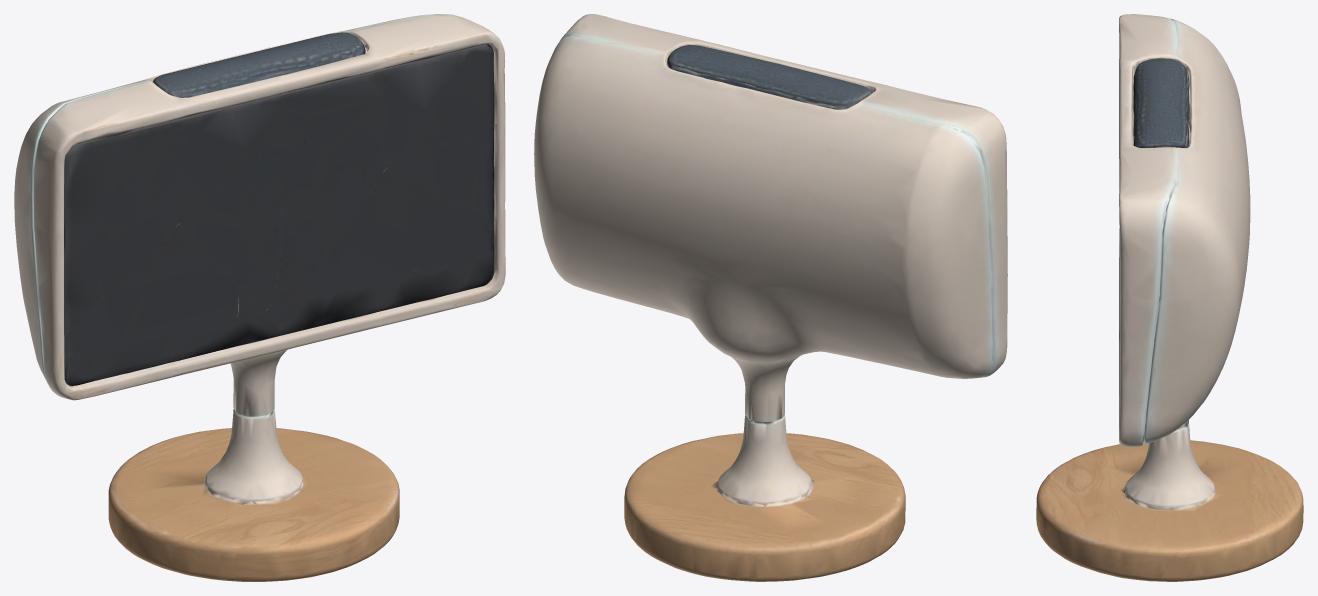
File: monitor.medium.glb
3 renders of one model, left to right at view 1: azimuth 30°, elevation 25°; view 2: azimuth 150°, elevation 25°; view 3: azimuth 270°, elevation 25°, orthographic. The views are drawn at different scales.
Parts seen in each view (by area): view 1: tripo_node_e27f7cd5-86cc-4b60-932b-93221983cf39; view 2: tripo_node_e27f7cd5-86cc-4b60-932b-93221983cf39; view 3: tripo_node_e27f7cd5-86cc-4b60-932b-93221983cf39.
Boxes of the visible parts, x1,y1,x2,y2 form: tripo_node_e27f7cd5-86cc-4b60-932b-93221983cf39: [14, 14, 505, 581]; tripo_node_e27f7cd5-86cc-4b60-932b-93221983cf39: [534, 14, 1007, 581]; tripo_node_e27f7cd5-86cc-4b60-932b-93221983cf39: [1036, 14, 1303, 581].
Size of the model in its own units: 0.6198 by 0.614 by 0.3434.
1 material, 1 textured.
